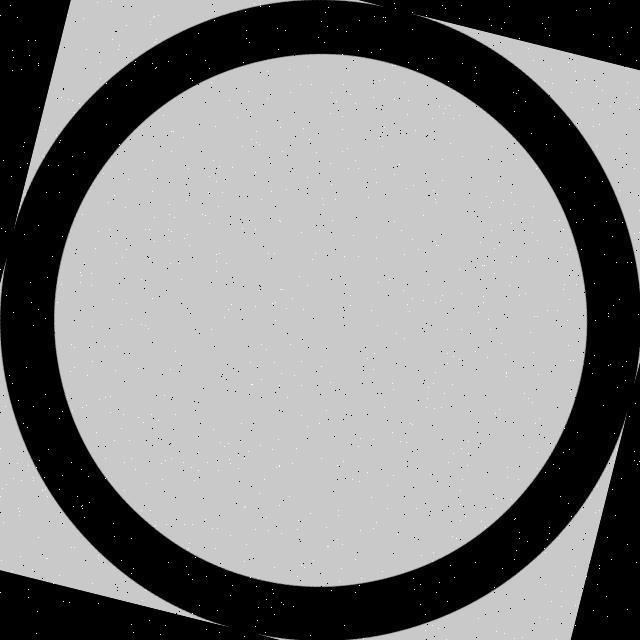Circle: (3, 3, 640, 636)
